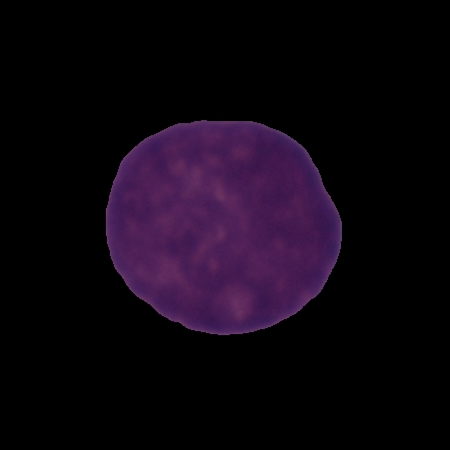HEM: (102, 116, 347, 338)
